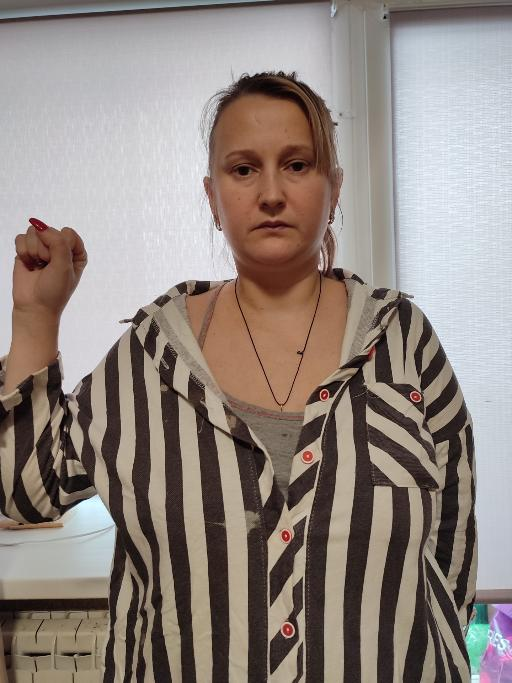fist: (8, 215, 89, 314)
